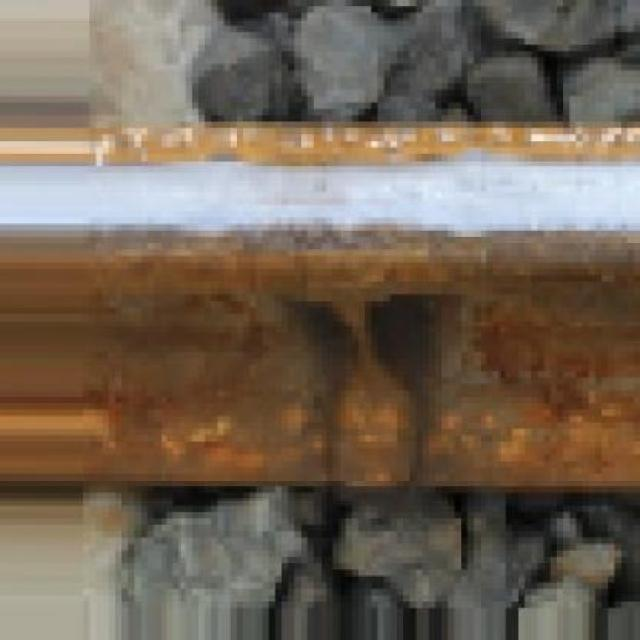defective: (0, 78, 640, 554)
